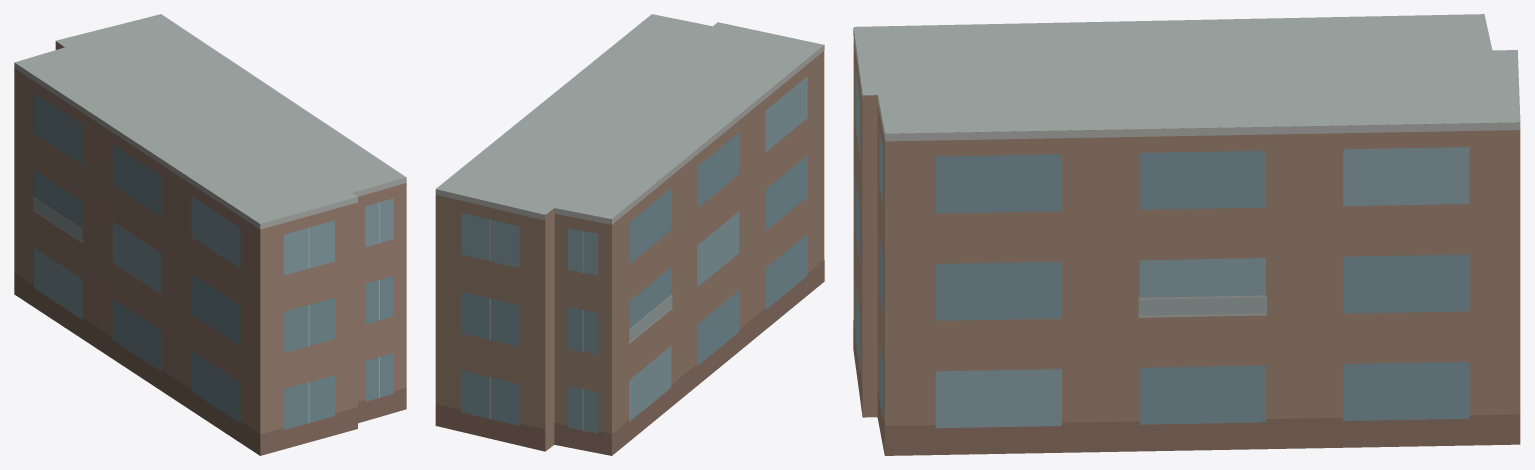
Rendered from survey-upis-32575392.glb.
3 renders of one model, left to right at view 1: azimuth 30°, elevation 25°; view 2: azimuth 150°, elevation 25°; view 3: azimuth 270°, elevation 25°, orthographic. The views are drawn at different scales.
Parts seen in each view (by area): view 1: survey-upis-32575392.tmp; view 2: survey-upis-32575392.tmp; view 3: survey-upis-32575392.tmp.
Part boxes in pixels (left/top/right/bottom): survey-upis-32575392.tmp: left=14, top=14, right=406, bottom=455; survey-upis-32575392.tmp: left=435, top=14, right=824, bottom=455; survey-upis-32575392.tmp: left=853, top=14, right=1520, bottom=455.
Bounding box in the file's own units: 8.18 × 10.25 × 19.24.
